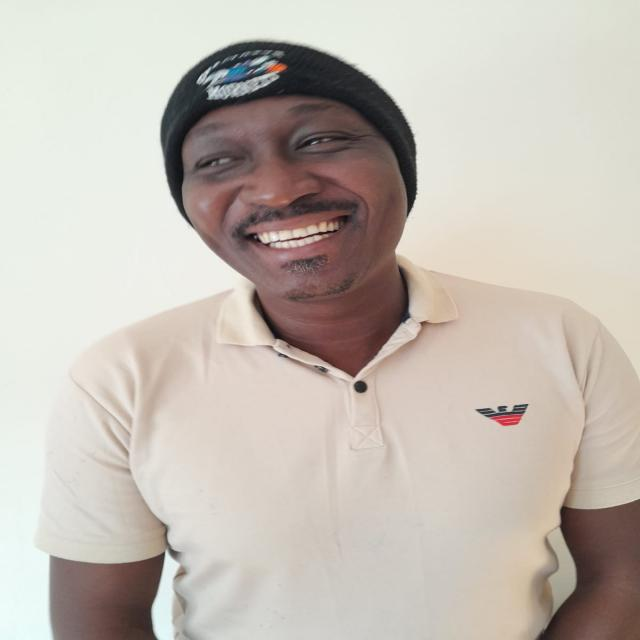happy: (149, 42, 424, 310)
